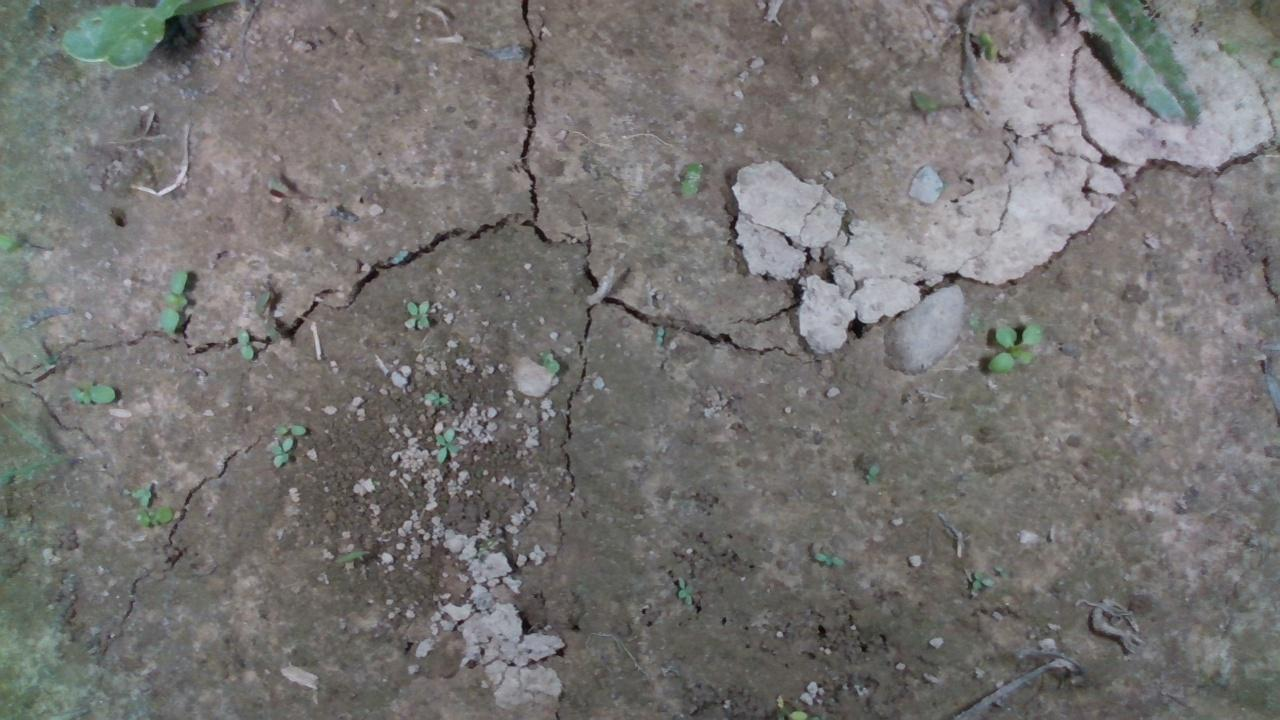weed: (397, 292, 439, 333), (537, 346, 572, 387), (227, 325, 255, 366), (63, 384, 116, 405), (812, 545, 852, 570), (265, 436, 293, 467), (426, 431, 454, 461), (133, 505, 171, 526), (862, 460, 880, 485), (272, 424, 307, 433)
